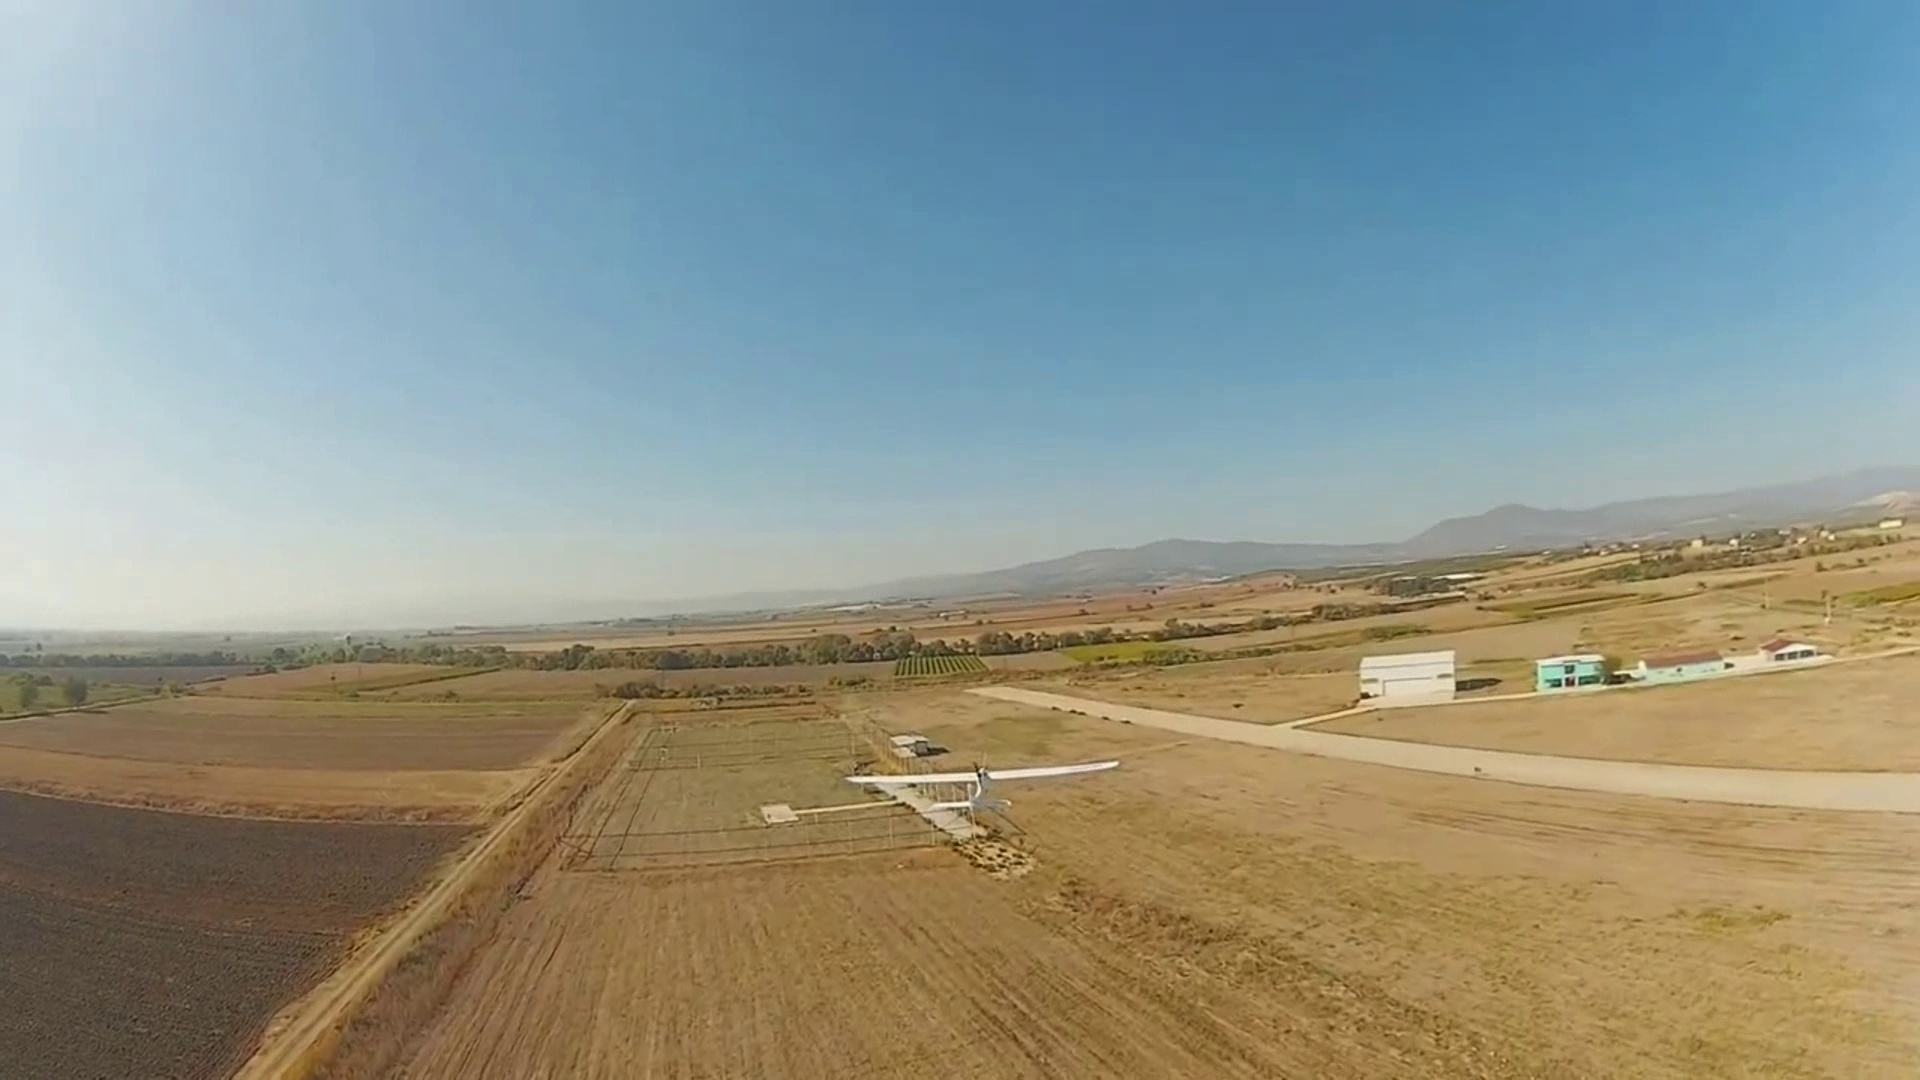airplane: (845, 742, 1125, 852)
